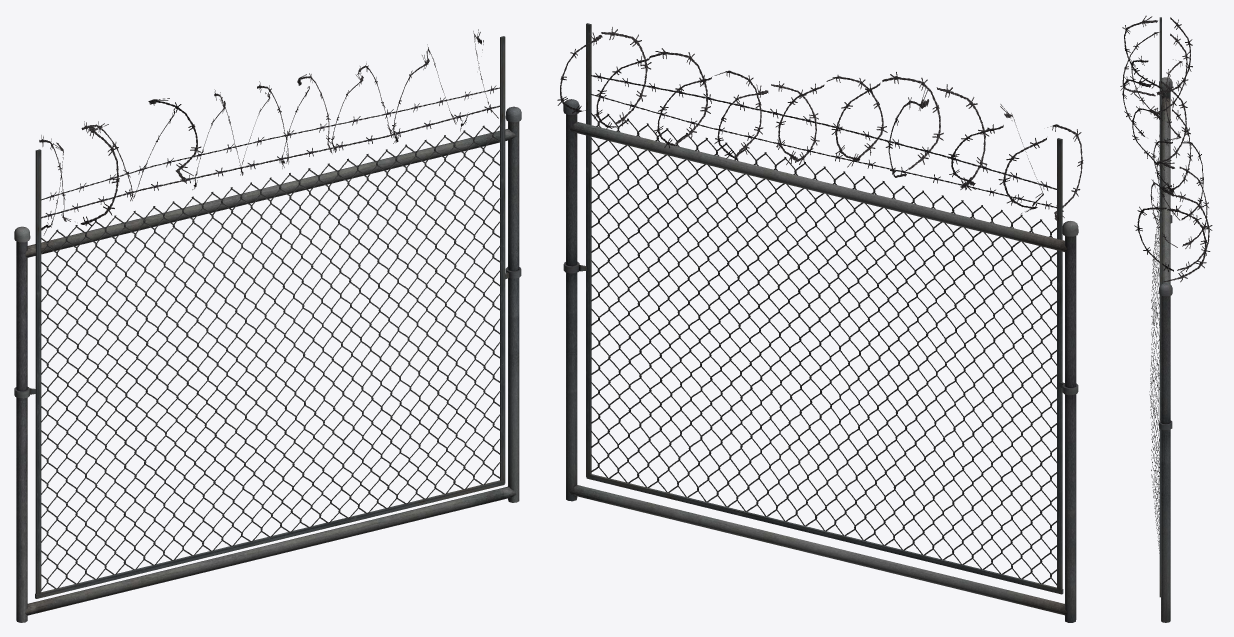
The model's file is chainlink_barbwire-2.FBX.
3 views of the same model, side by side, from view 1: azimuth 30°, elevation 25°; view 2: azimuth 150°, elevation 25°; view 3: azimuth 270°, elevation 25° (orthographic). The views are drawn at different scales.
Visible parts, largest first — view 1: chainlink_barbedwire-2_LOD0; view 2: chainlink_barbedwire-2_LOD0; view 3: chainlink_barbedwire-2_LOD0.
Boxes of the visible parts, box(x1,y1,x2,y2) form: chainlink_barbedwire-2_LOD0: box(14, 29, 521, 622); chainlink_barbedwire-2_LOD0: box(557, 23, 1083, 622); chainlink_barbedwire-2_LOD0: box(1120, 15, 1212, 622).
Size of what is drawn, in the model's own units: 112 by 104 by 23.74.
